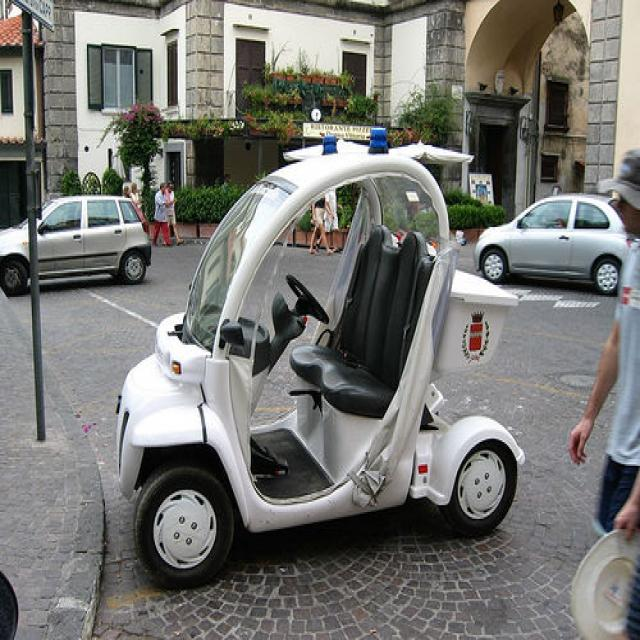Car: (115, 130, 520, 589), (0, 188, 153, 320), (458, 179, 640, 285)
